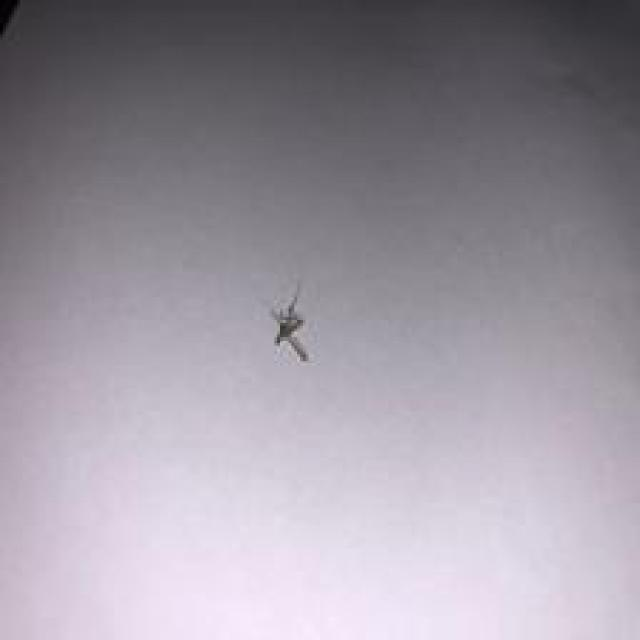Culex: (267, 284, 310, 362)
